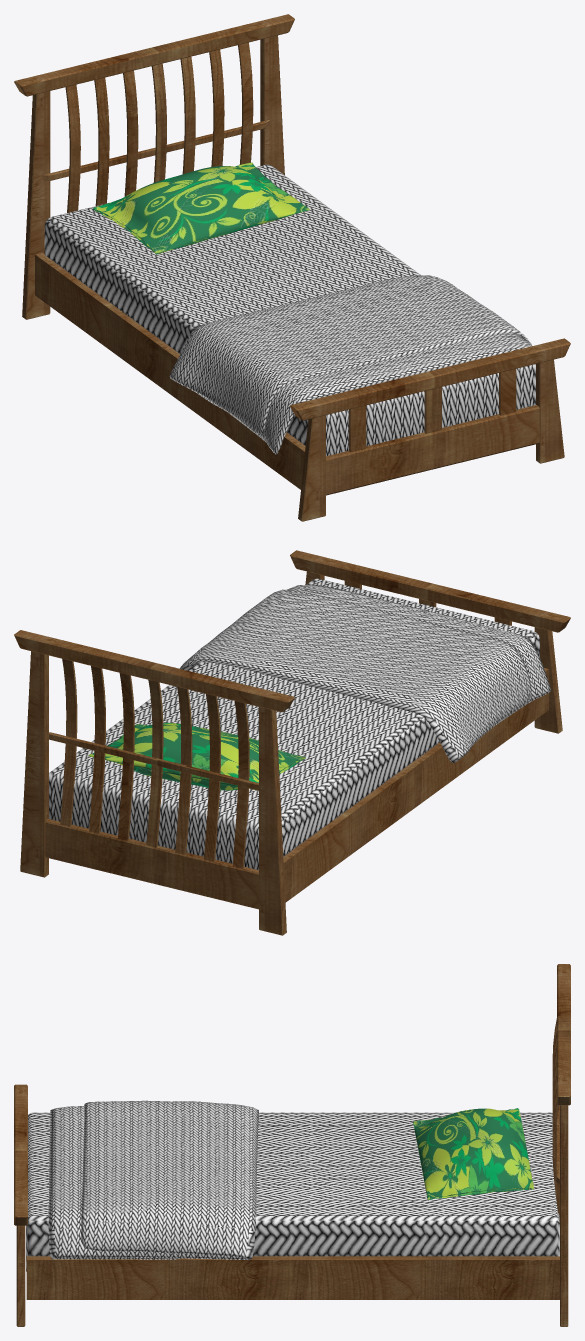
The model's file is uploads_files_3362914_Modern+single+bed+bed+interior+design+3D+model.FBX.
3 views of the same model, one above another, from view 1: azimuth 30°, elevation 25°; view 2: azimuth 150°, elevation 25°; view 3: azimuth 270°, elevation 25° (orthographic).
Visible parts, largest first — view 1: obj_00, obj_06, obj_02, obj_03, obj_01, obj_05, obj_04; view 2: obj_06, obj_00, obj_03, obj_04, obj_05, obj_02, obj_01; view 3: obj_00, obj_06, obj_05, obj_01, obj_03, obj_02, obj_04.
Boxes of the visible parts, x1,y1,x2,y2 form: obj_00: (44,164,535,456); obj_06: (169,275,532,454); obj_02: (290,338,570,521); obj_03: (14,14,294,319); obj_01: (93,162,309,254); obj_05: (35,253,305,489); obj_04: (65,42,253,212); obj_06: (180,584,550,763); obj_00: (49,578,539,869); obj_03: (14,630,294,935); obj_04: (60,658,249,868); obj_05: (283,668,548,902); obj_02: (290,550,570,733); obj_01: (88,722,305,790); obj_00: (26,1112,559,1271); obj_06: (48,1100,258,1259); obj_05: (26,1256,559,1299); obj_01: (413,1108,533,1200); obj_03: (556,964,570,1326); obj_02: (14,1084,27,1326); obj_04: (552,1018,559,1223).
Bounding box in the file's own units: 1278 × 1007 × 2177.
